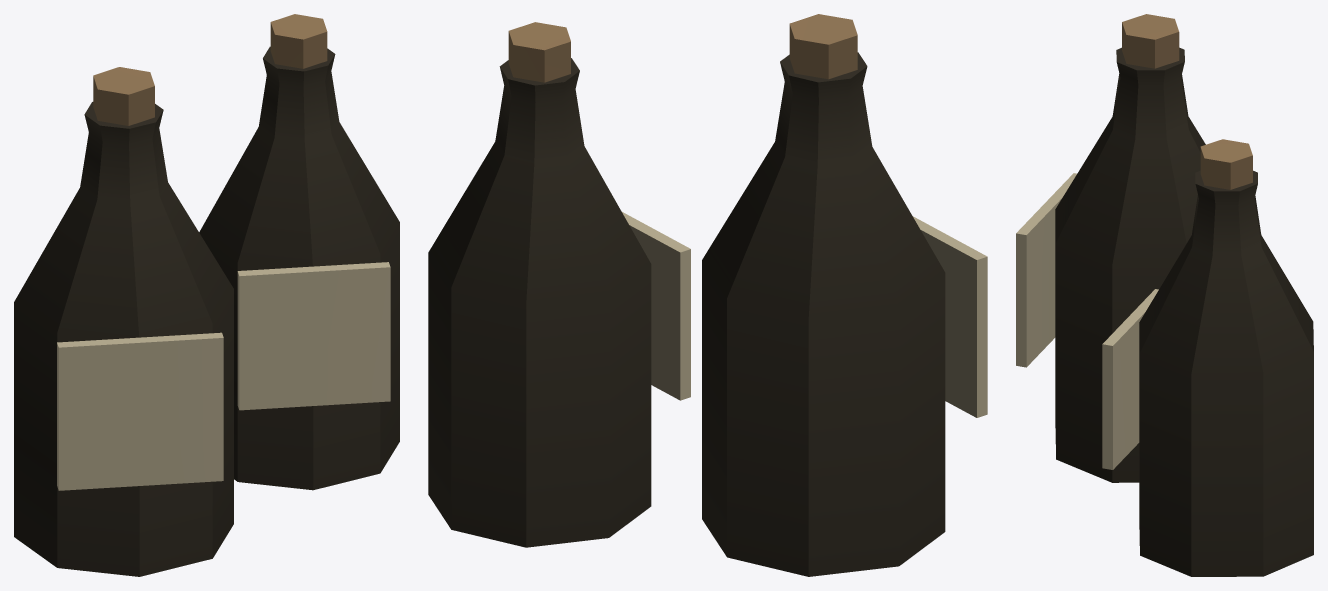
File: ph_item_bitter_drops.glb
3 renders of one model, left to right at view 1: azimuth 30°, elevation 25°; view 2: azimuth 150°, elevation 25°; view 3: azimuth 270°, elevation 25°, orthographic. The views are drawn at different scales.
Parts seen in each view (by area): view 1: ph_item_bitter_drops; view 2: ph_item_bitter_drops; view 3: ph_item_bitter_drops.
Part boxes in pixels (x1,y1,x2,y2): ph_item_bitter_drops: (14, 14, 399, 576); ph_item_bitter_drops: (428, 14, 987, 576); ph_item_bitter_drops: (1016, 14, 1313, 576).
Bounding box in the file's own units: 0.1515 × 0.1648 × 0.1044.
